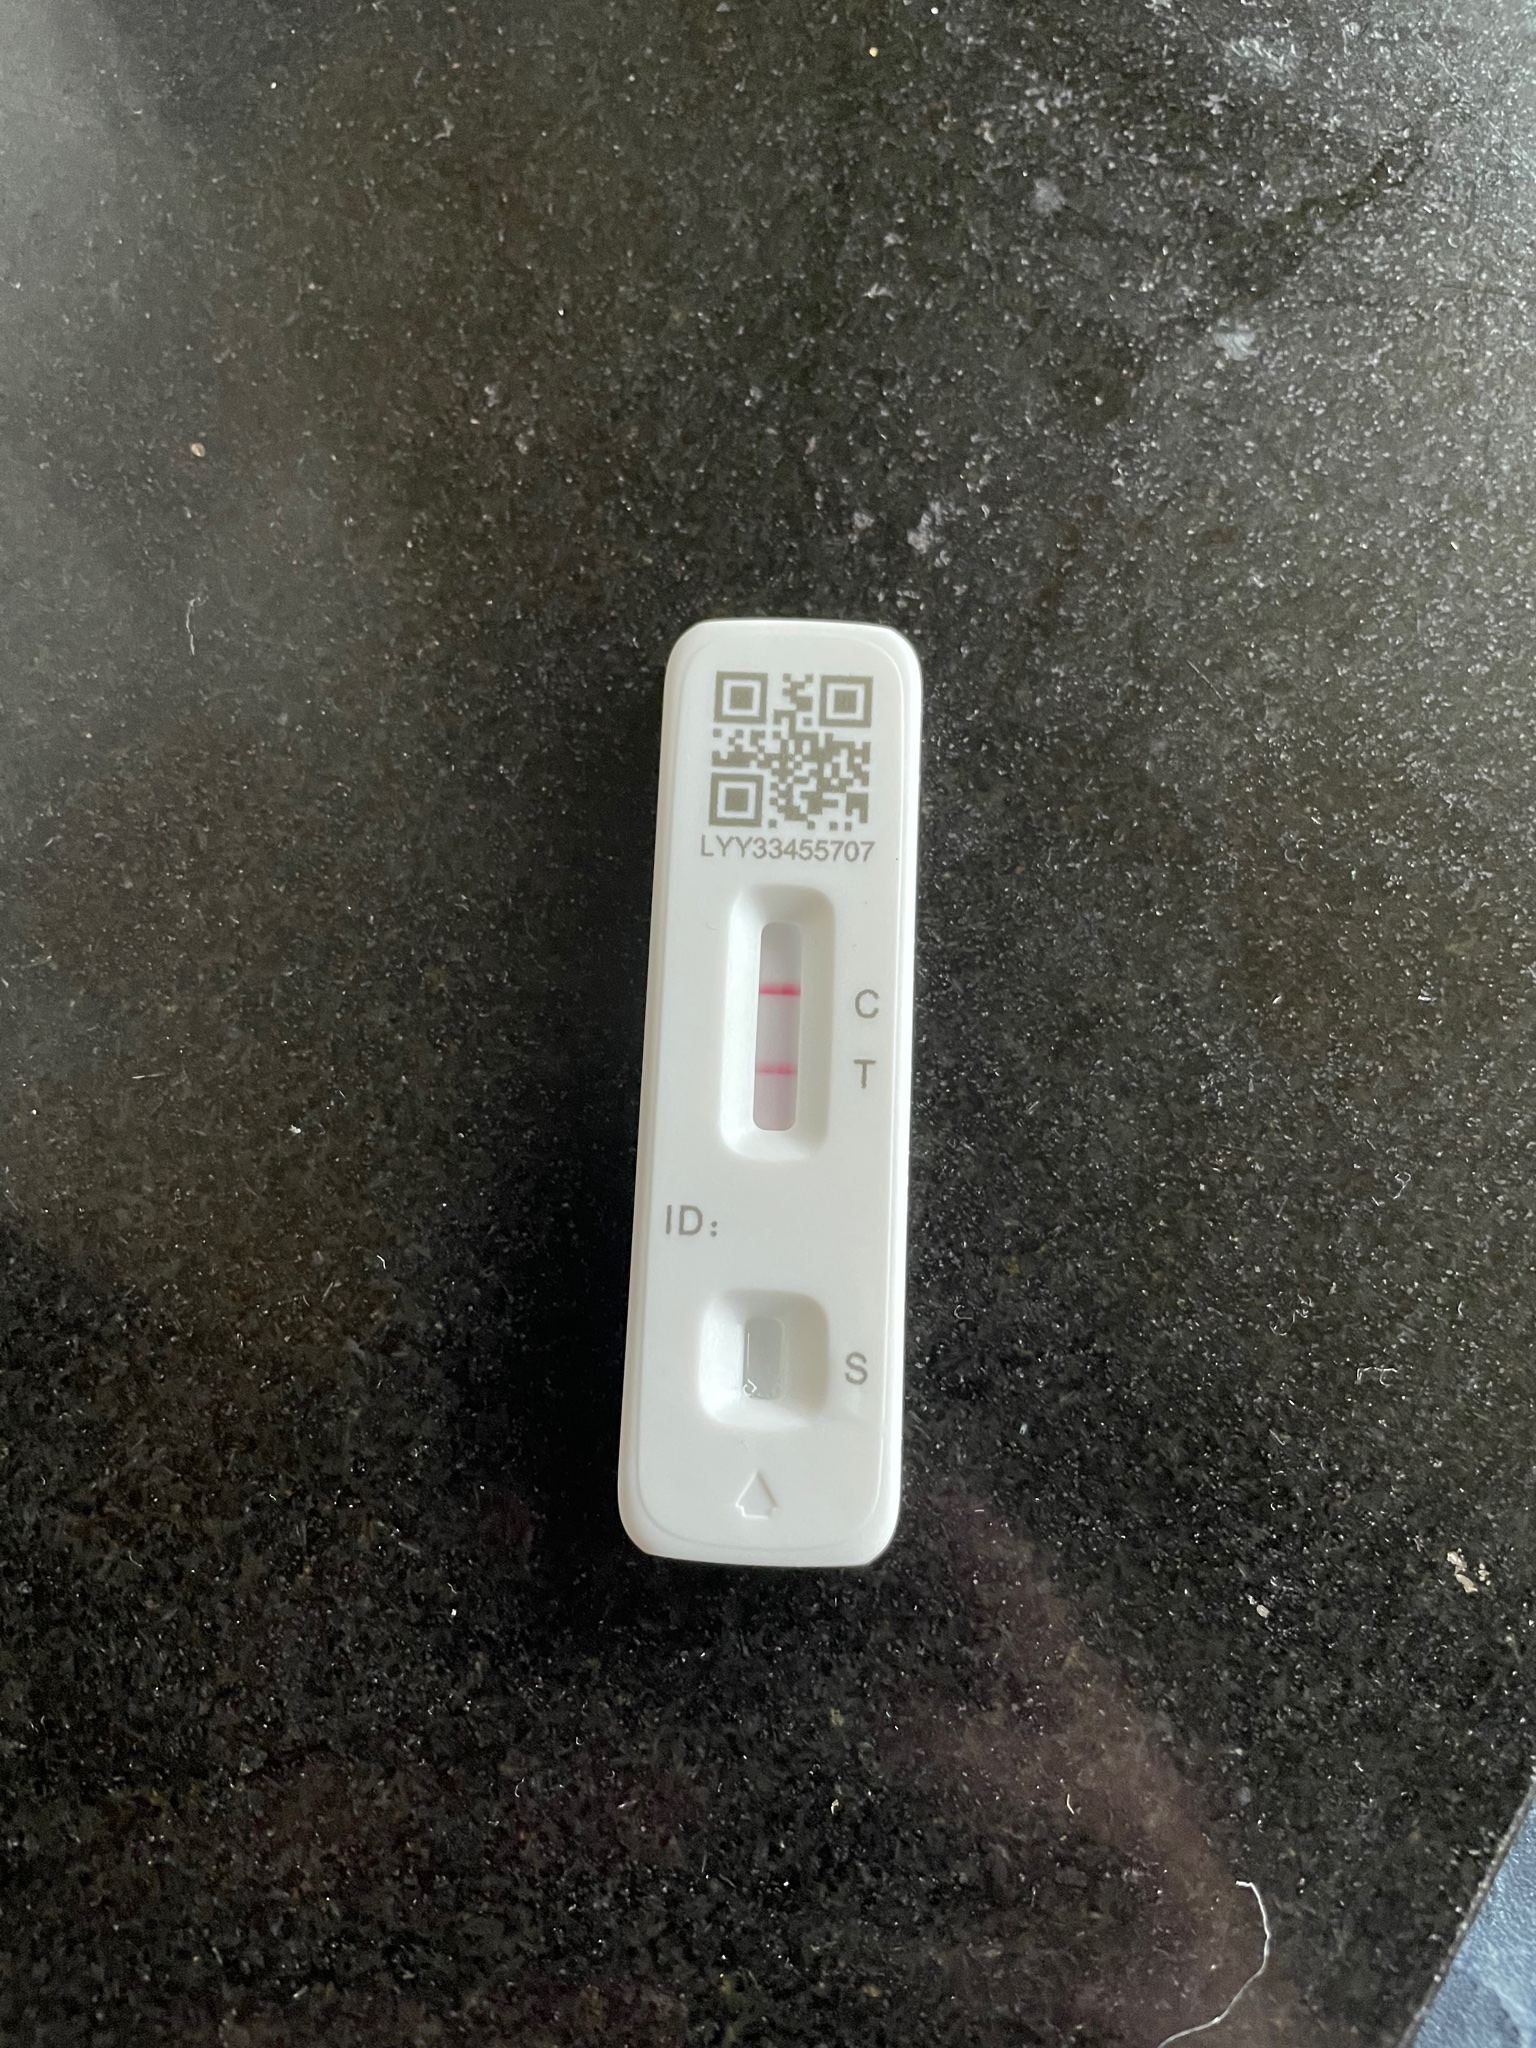positive: (720, 877, 828, 1168)
